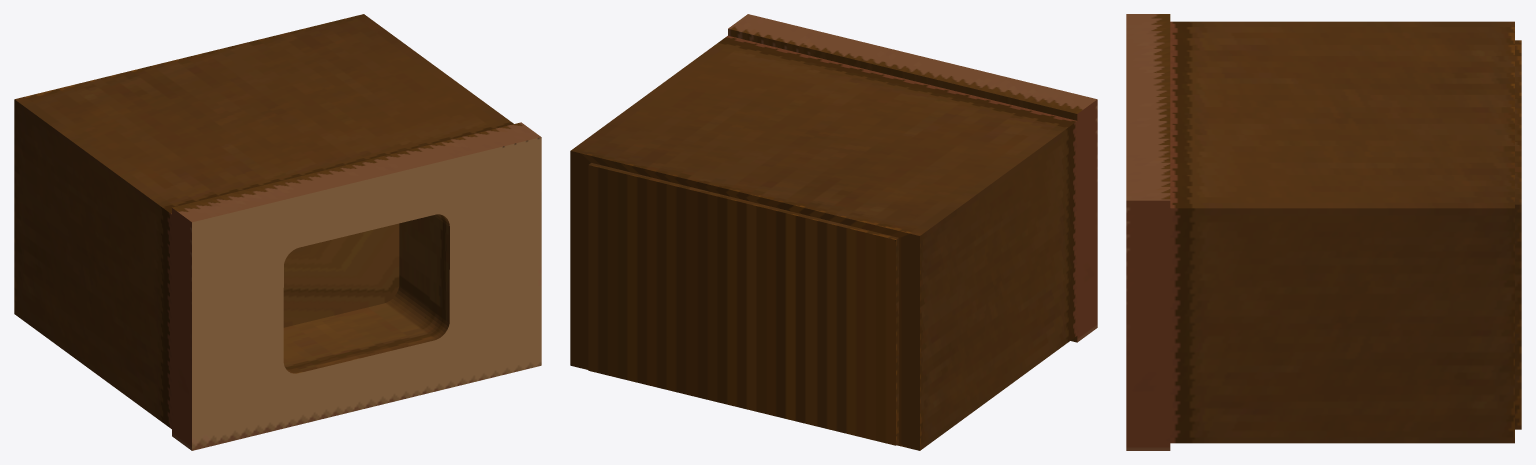
File: pz_counter_oak_floor__sink_inset_rect.obj
3 views of the same model, side by side, from view 1: azimuth 30°, elevation 25°; view 2: azimuth 150°, elevation 25°; view 3: azimuth 270°, elevation 25° (orthographic). The views are drawn at different scales.
Bounding box in the file's own units: 1 × 0.6266 × 0.895.
1 material, 1 textured.
